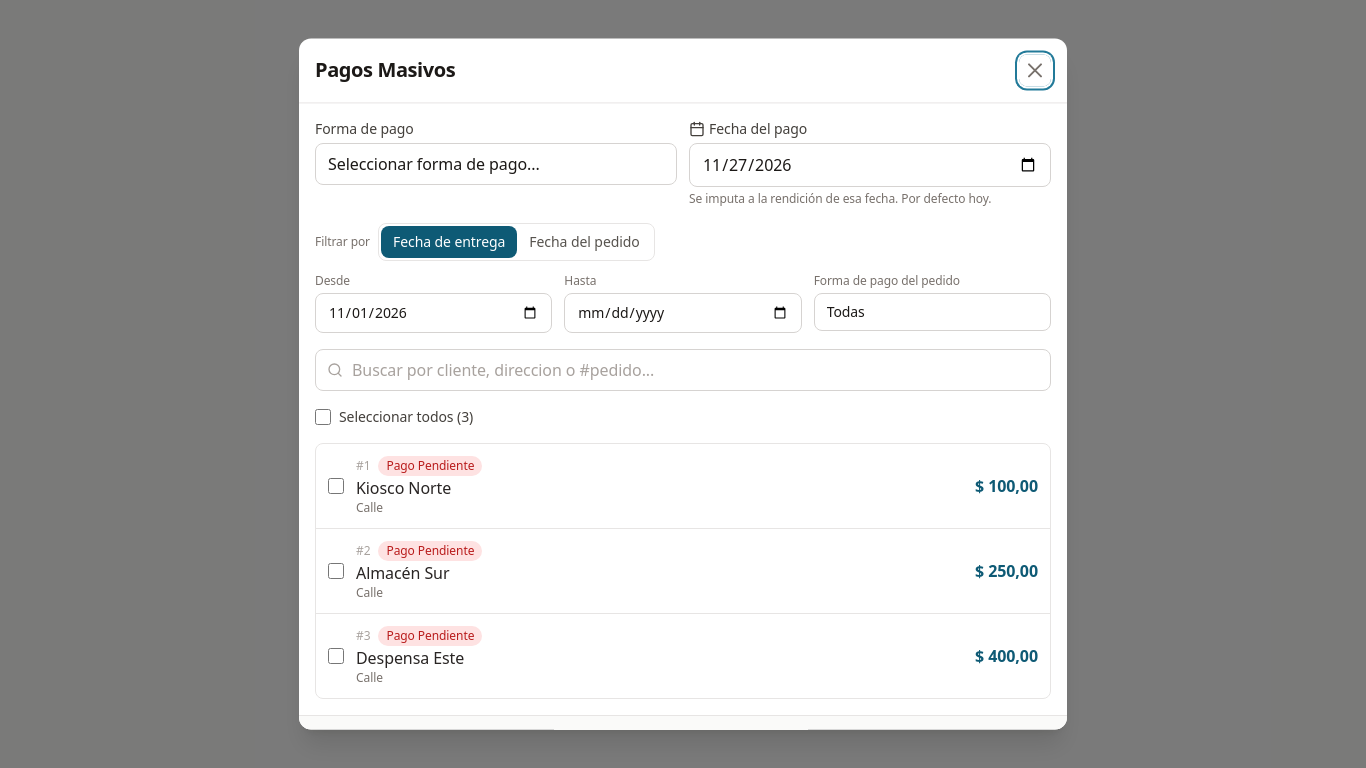
Scenario: ModalPagosMasivos · filtros de fecha y forma de pago (#1698) › filtra por forma de pago
Select "Efectivo" in the 1st dropdown. click: coordinates (496, 164)
box: [315,143,677,185]
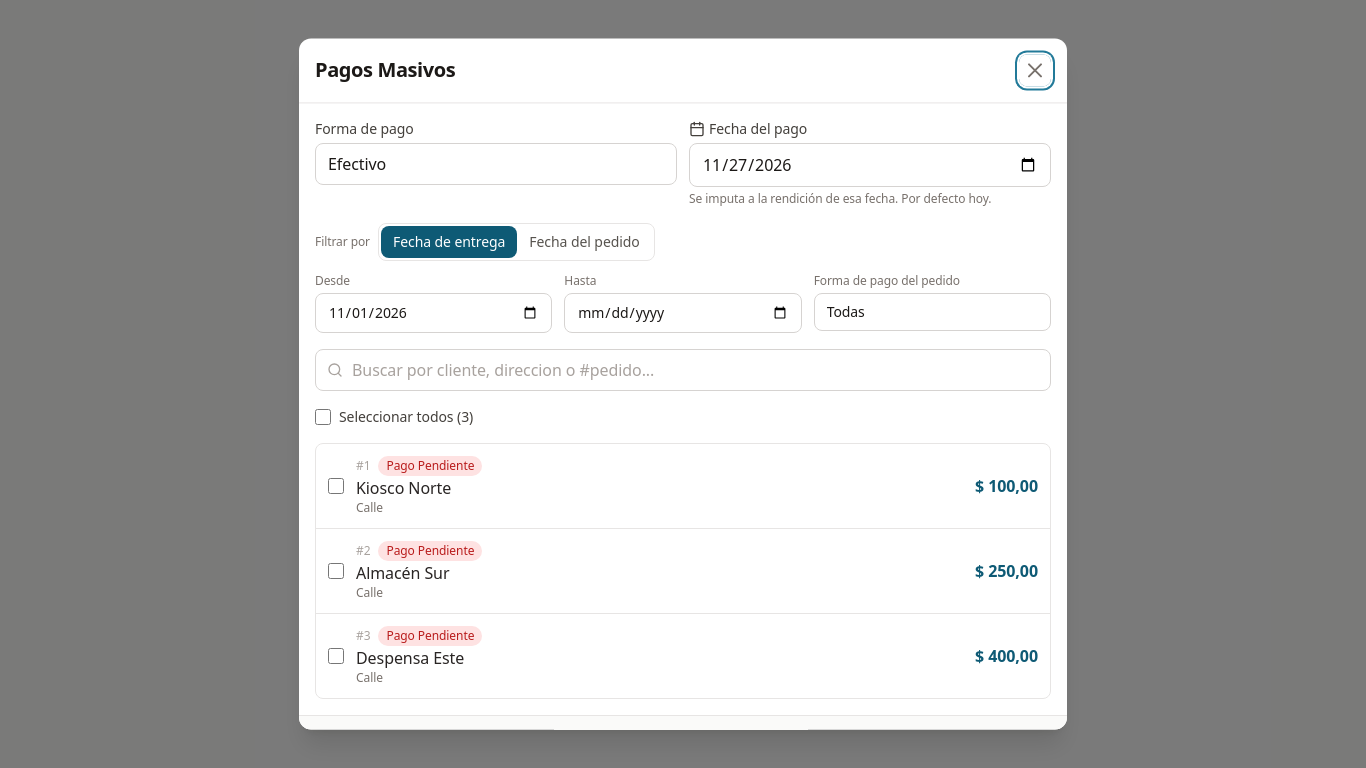
Select "Efectivo" in the dropdown labelled "Forma de pago del pedido". click: coordinates (932, 312)
box: [814,293,1051,331]
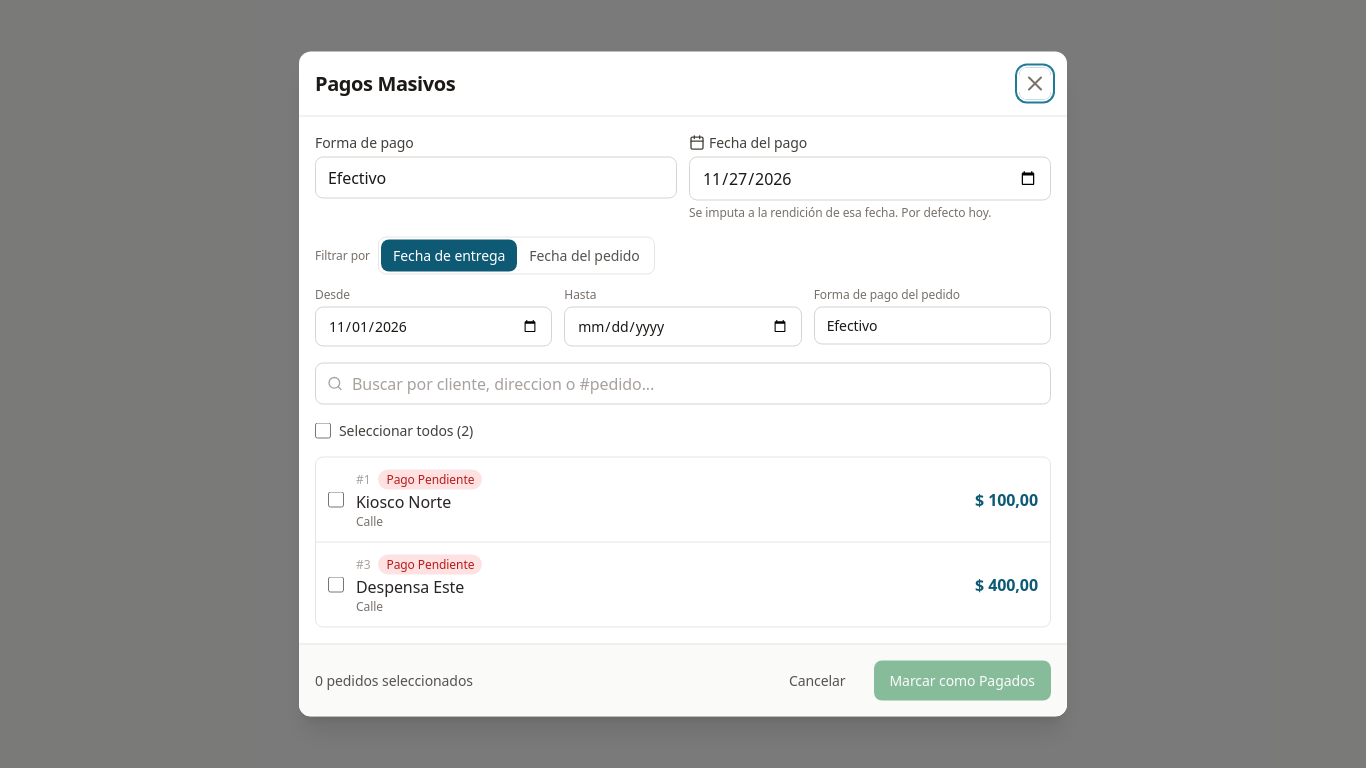
Expected: the text "Kiosco Norte" is shown, [356,490,451,512]
Expected: the text "Almacén Sur" is gone
